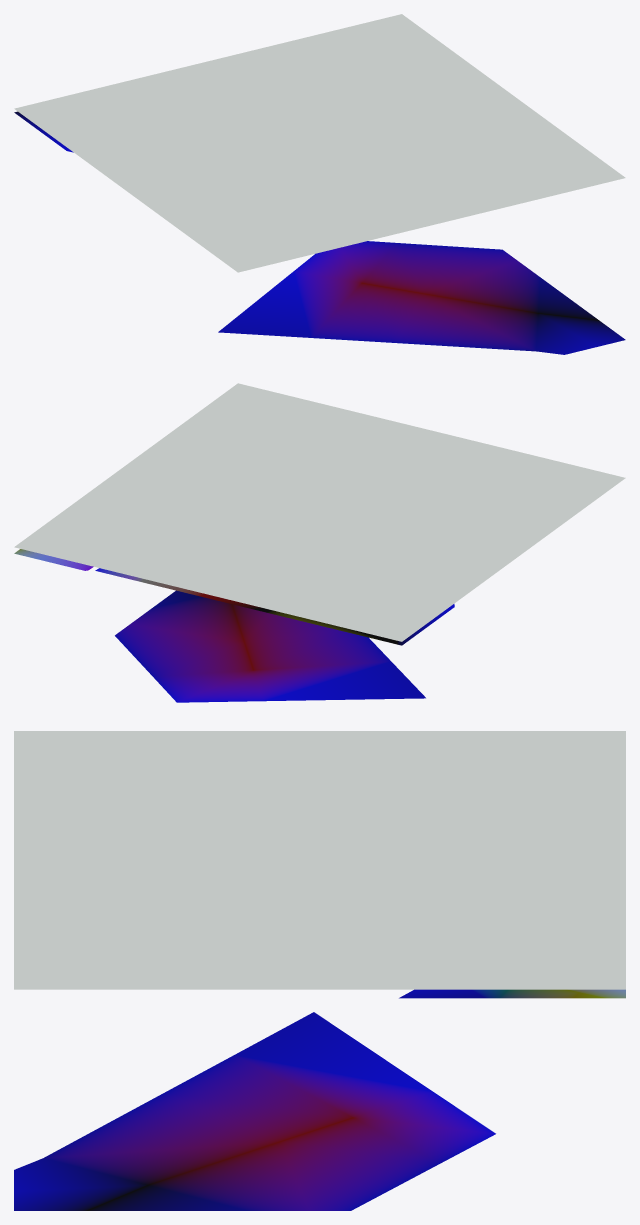
3 views of the same model, one above another, from view 1: azimuth 30°, elevation 25°; view 2: azimuth 150°, elevation 25°; view 3: azimuth 270°, elevation 25° (orthographic). The views are drawn at different scales.
Visible parts, largest first — view 1: G:\FFXIV-MapTools\exports\w1f5\bg\ffxiv\wil_w1\fld\w1f5\bgpl (×2); view 2: G:\FFXIV-MapTools\exports\w1f5\bg\ffxiv\wil_w1\fld\w1f5\bgpl (×2); view 3: G:\FFXIV-MapTools\exports\w1f5\bg\ffxiv\wil_w1\fld\w1f5\bgpl (×2).
Part boxes in pixels (x1,y1,x2,y2): G:\FFXIV-MapTools\exports\w1f5\bg\ffxiv\wil_w1\fld\w1f5\bgpl (×2): [14, 14, 625, 354]; G:\FFXIV-MapTools\exports\w1f5\bg\ffxiv\wil_w1\fld\w1f5\bgpl (×2): [14, 383, 625, 702]; G:\FFXIV-MapTools\exports\w1f5\bg\ffxiv\wil_w1\fld\w1f5\bgpl (×2): [14, 731, 625, 1210].
Size of the model in its own units: 128 by 51.06 by 128.
